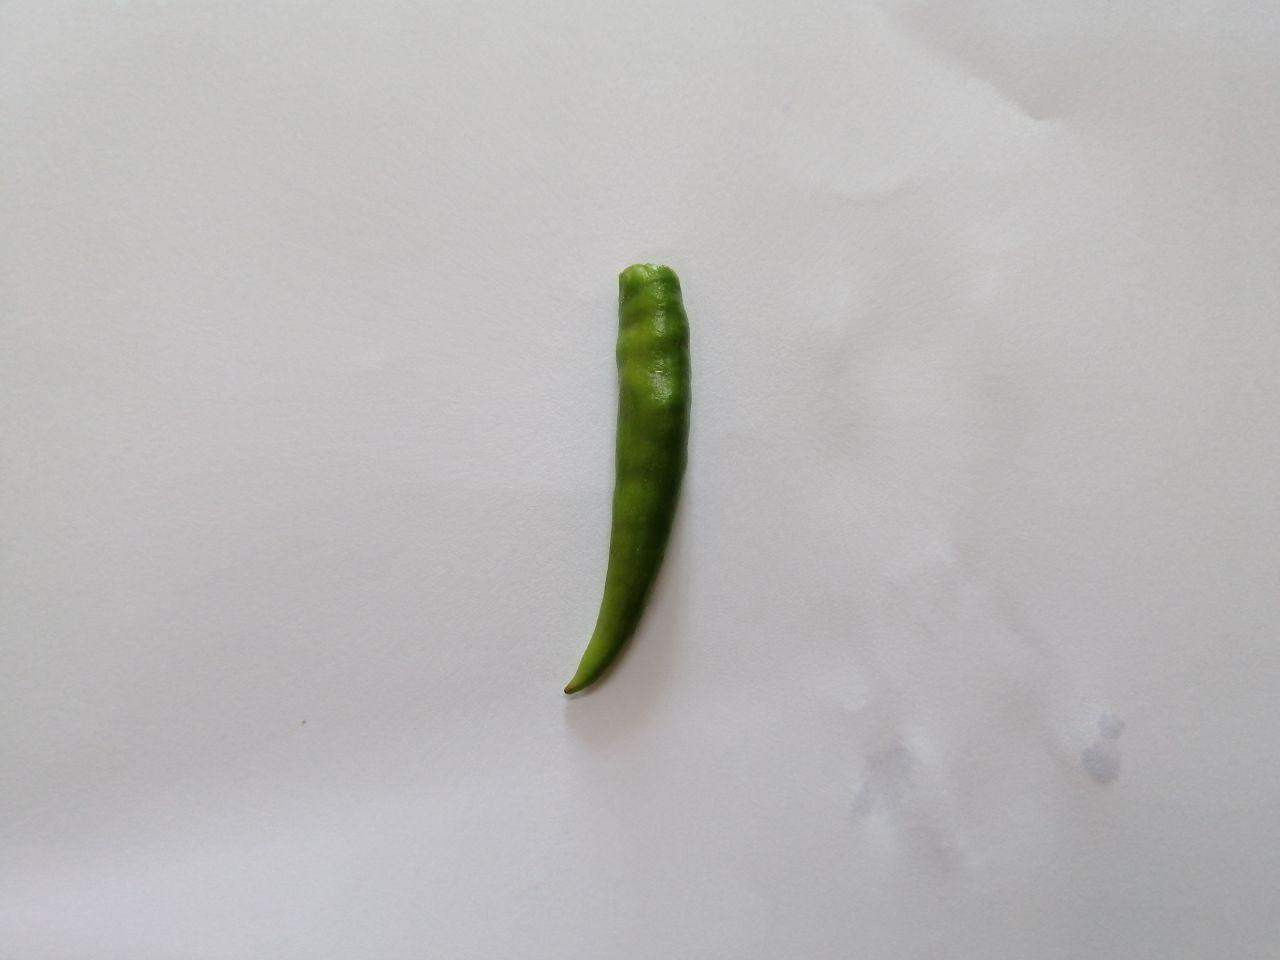lada hijau: (546, 258, 709, 725)
